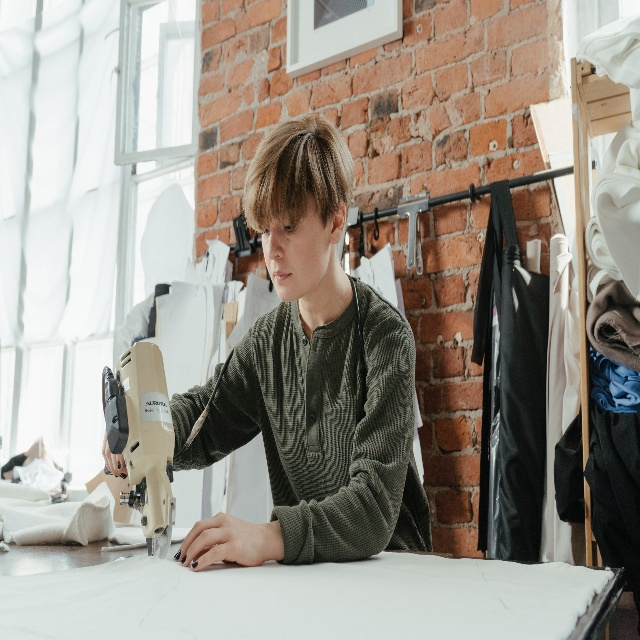Sin_guantes: (173, 510, 266, 571), (101, 427, 128, 479)
